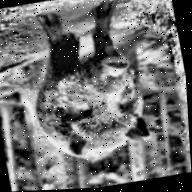boar: (16, 0, 156, 173)
